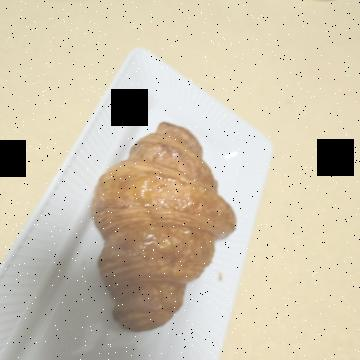croissant: (100, 122, 342, 286)
